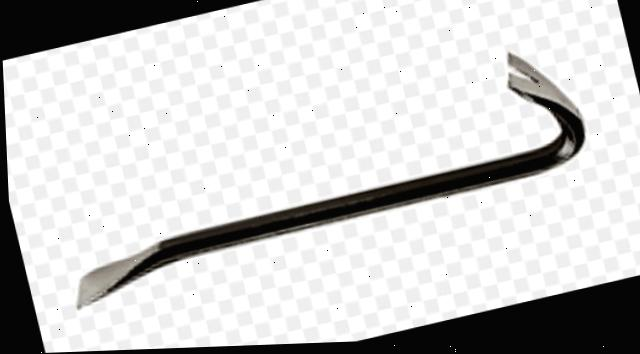crow bar: (32, 34, 612, 316)
